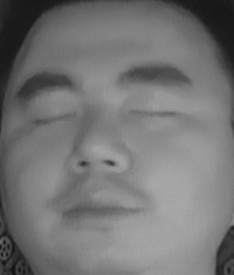blink: (129, 97, 178, 128), (31, 102, 78, 134)
mouth: (61, 180, 147, 231)
